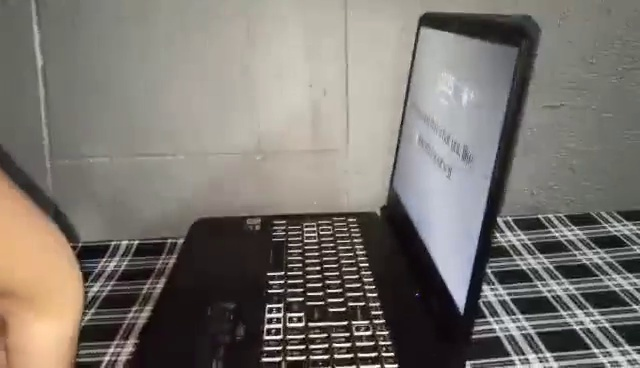laptop: (125, 15, 536, 365)
